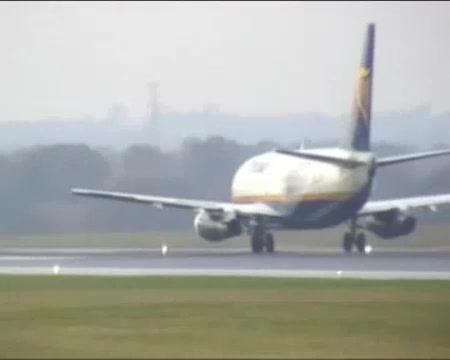aeroplane: (71, 23, 450, 253)
